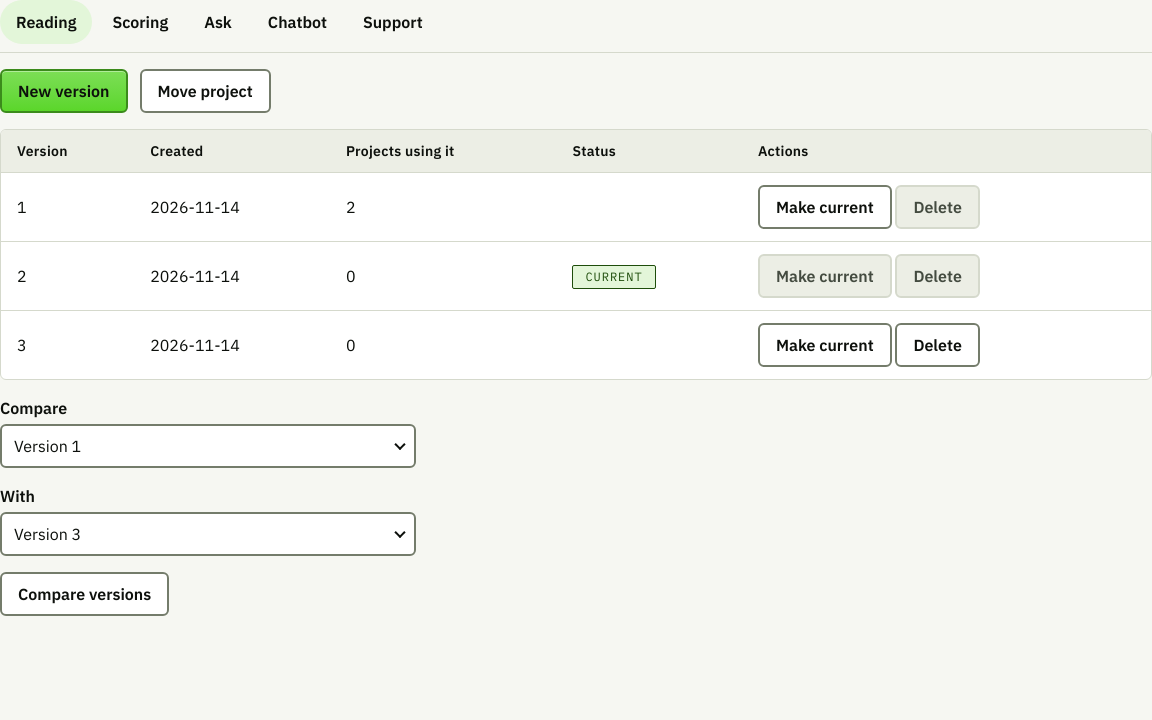
it: creating, choosing and deleting versions › shows the server's refusal in plain words
Expected: the element named "Reading versions" is shown, [0,129,1151,380]
What coordinates should you click on to do the following:
click the button with aria-label "Make version 3 current"
I would click on:
 (825, 345)
Its box is [758,323,892,367].
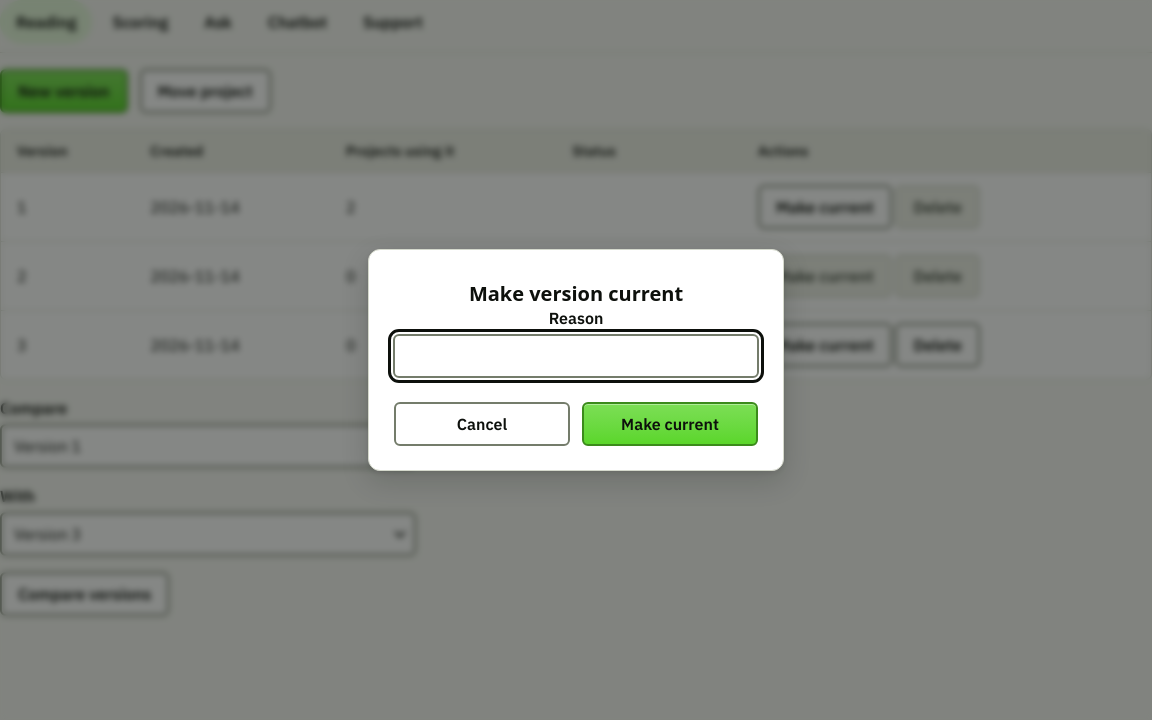
What coordinates should you click on to do the following:
click the button "Make current"
I would click on:
 (670, 424)
Its box is [582,402,758,446].
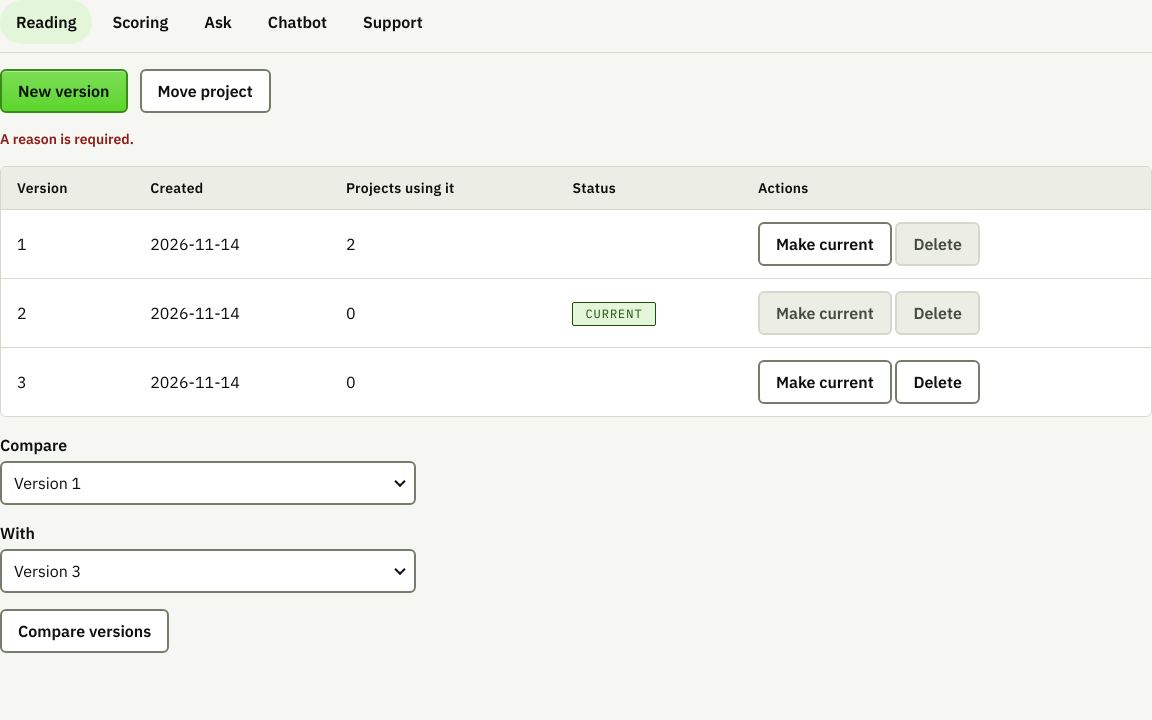
Expected: the message reads "A reason is required.", [0,130,134,148]
